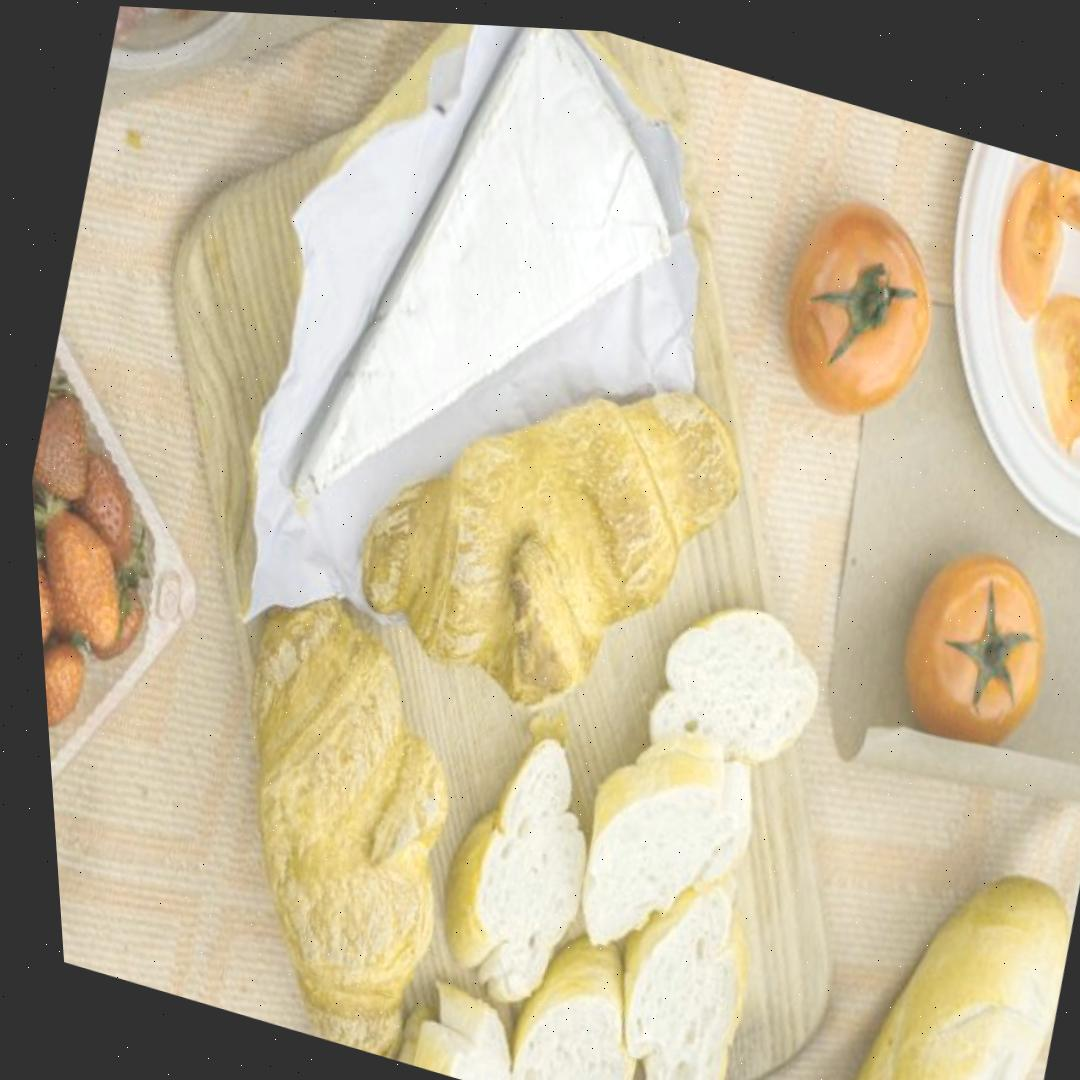matang: (748, 184, 958, 439), (875, 532, 1068, 769)
